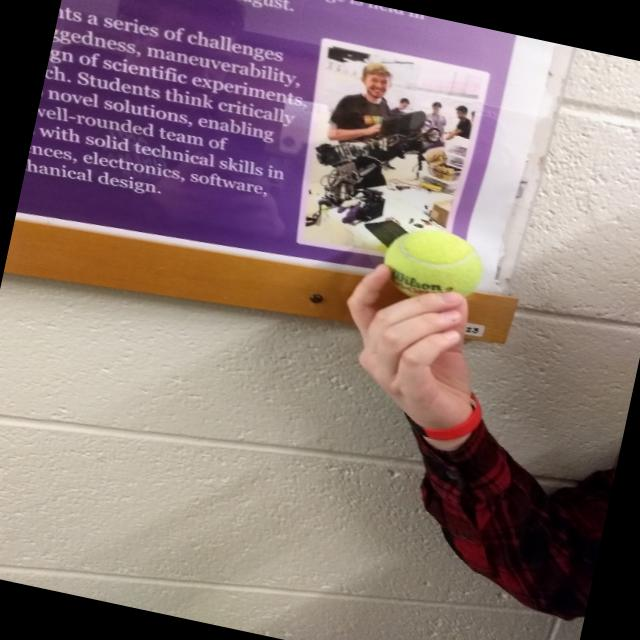tennis-ball: (375, 220, 490, 312)
